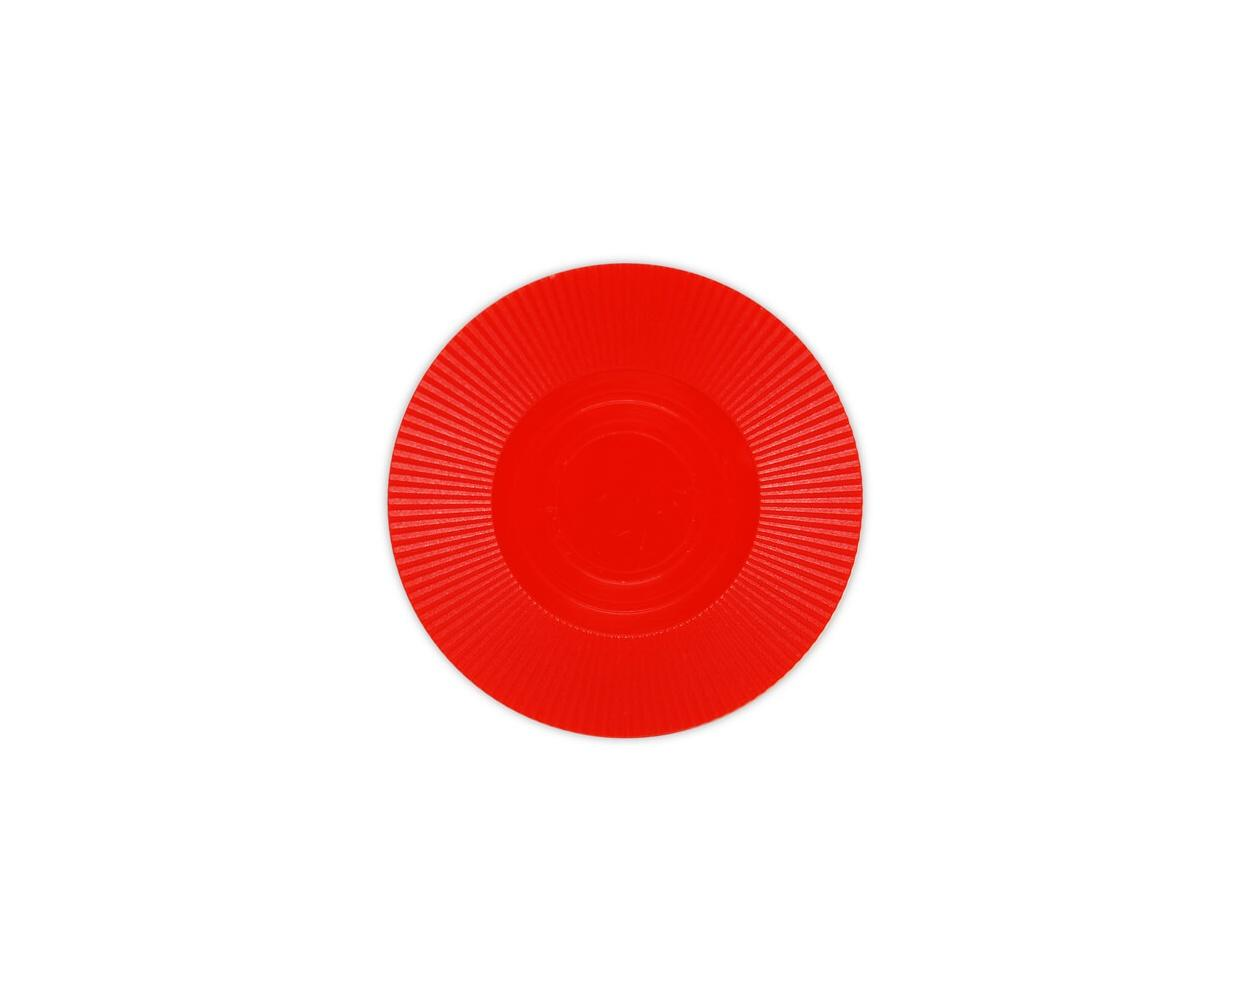chip-red: (388, 263, 862, 736)
